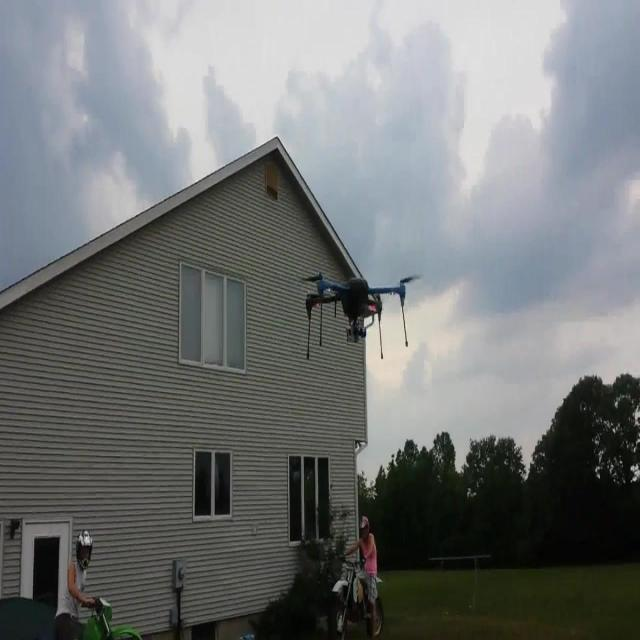drone: (304, 268, 424, 366)
